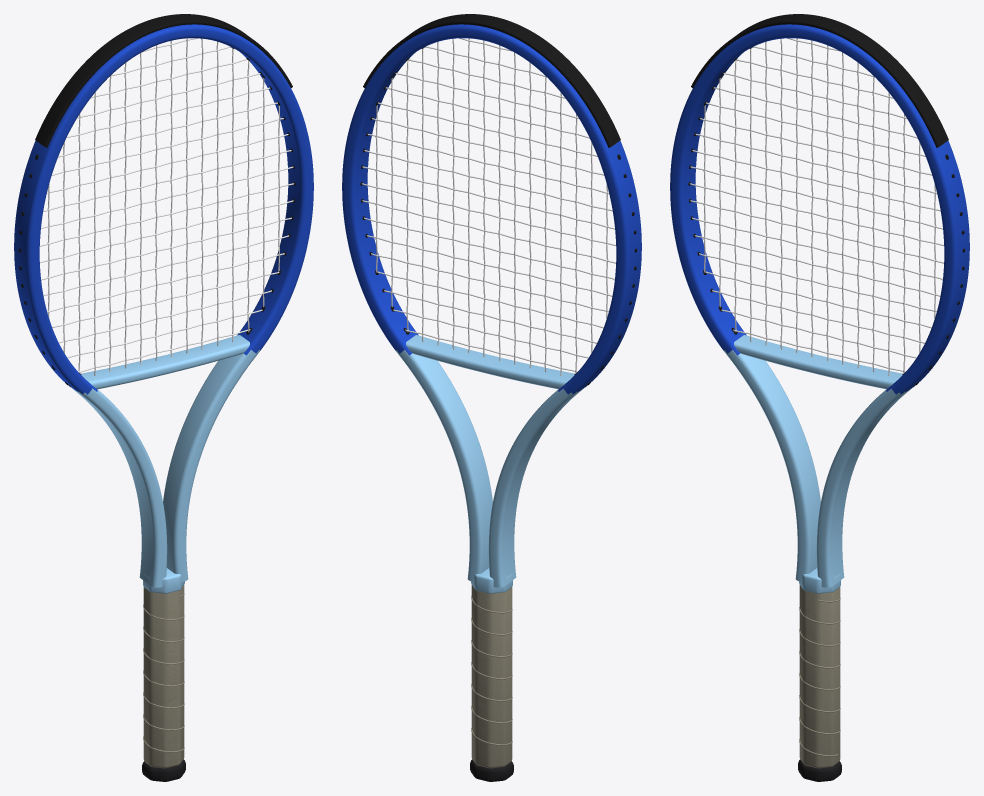
Rendered from yonex-ezone-100-2025.glb.
The picture shows the model from 3 angles, left to right: view 1: azimuth 30°, elevation 25°; view 2: azimuth 150°, elevation 25°; view 3: azimuth 330°, elevation 25°; orthographic projection.
Visible parts, largest first — view 1: Frame, Strings, Handle, Bumper, Yoke, GripSeam, ButtCap, Collar; view 2: Frame, Strings, Handle, Bumper, Yoke, GripSeam, ButtCap, Collar; view 3: Frame, Strings, Handle, Bumper, Yoke, GripSeam, ButtCap, Collar.
Boxes of the visible parts, box(x1,y1,x2,y2) form: Frame: box(14, 24, 313, 587); Strings: box(39, 38, 293, 375); Handle: box(143, 585, 184, 768); Bumper: box(35, 14, 292, 147); Yoke: box(81, 335, 249, 389); GripSeam: box(143, 593, 184, 752); ButtCap: box(142, 759, 185, 781); Collar: box(143, 568, 184, 593); Frame: box(342, 24, 641, 587); Strings: box(362, 38, 615, 375); Handle: box(471, 585, 512, 768); Bumper: box(363, 14, 620, 147); Yoke: box(406, 335, 574, 389); GripSeam: box(471, 596, 512, 745); ButtCap: box(470, 759, 513, 781); Collar: box(471, 568, 512, 593); Frame: box(670, 24, 969, 587); Strings: box(690, 38, 943, 375); Handle: box(799, 585, 840, 768); Bumper: box(691, 14, 948, 147); Yoke: box(734, 335, 902, 389); GripSeam: box(799, 598, 840, 756); ButtCap: box(798, 759, 841, 781); Collar: box(799, 568, 840, 593).
Bounding box in the file's own units: 0.2758 × 0.6886 × 0.0327.
Materials: 6 (1 with a texture image).
